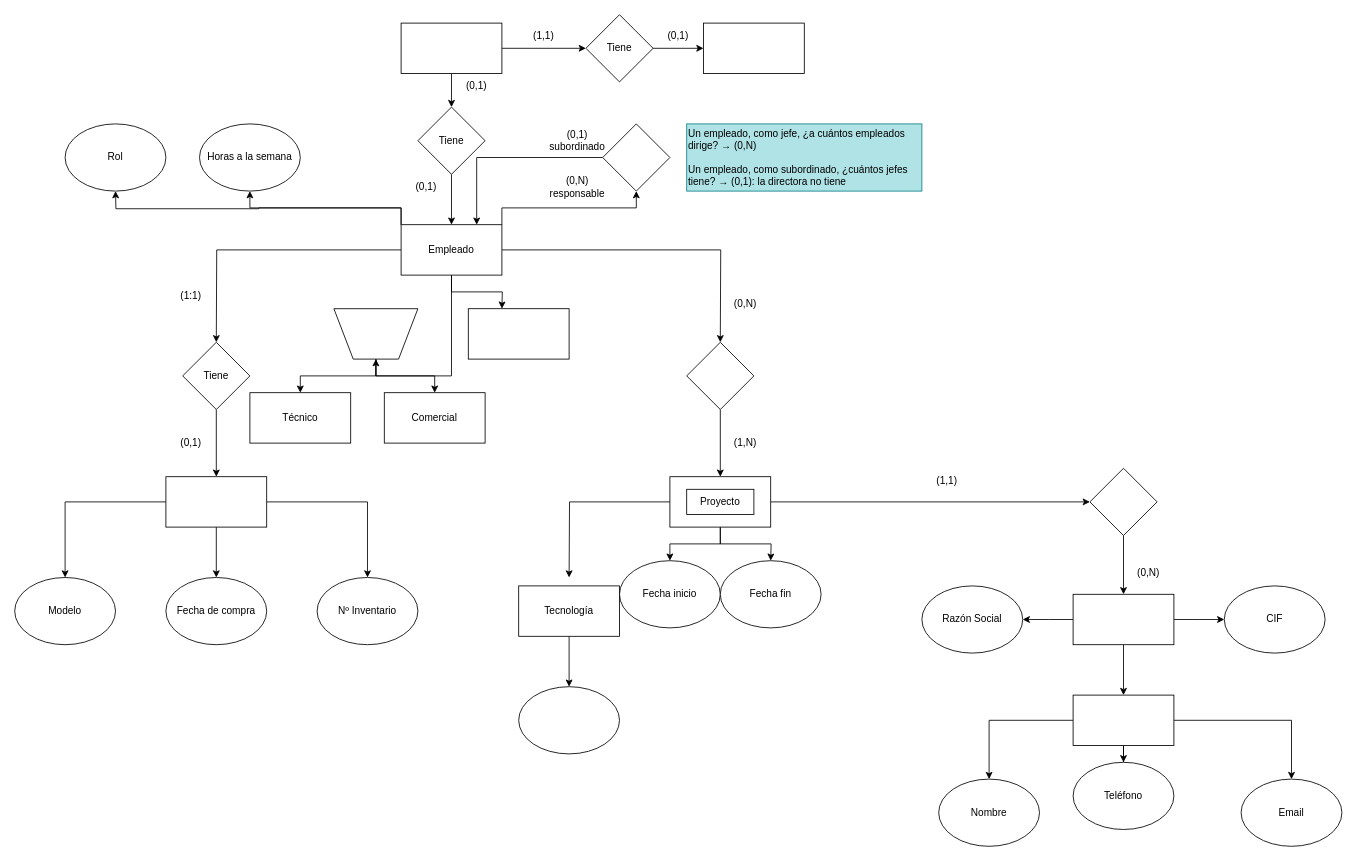
Some shapes in this 1357 by 861 pixel diagram are drawn without their labels. The shapes that lost their labels are listed below. From the top down, each one's centre as x and y in pixels, then its label:
At point 451,48: "Departamento".
At point 753,48: "Director".
At point 636,157: "Es jefe de".
At point 375,333: "Es un parcial, exclusiva".
At point 518,333: "Administración y dirección: ni técnicos ni comerciales".
At point 720,375: "Trabaja en".
At point 216,501: "Portátil".
At point 1123,501: "Para".
At point 1123,619: "Cliente".
At point 569,720: "Nombre de tecnología".
At point 1123,720: "Persona de contacto".
